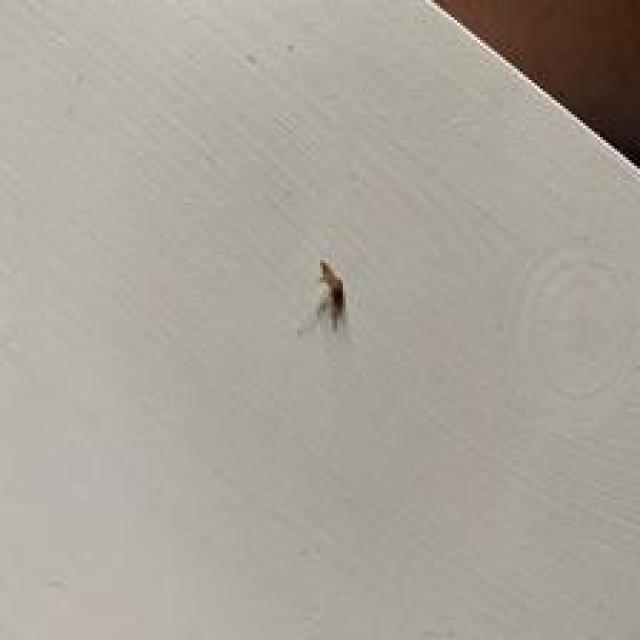Culex: (314, 258, 349, 333)
